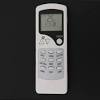remote control: (33, 4, 68, 97)
